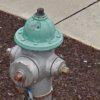Hydrant: (5, 3, 68, 99)
